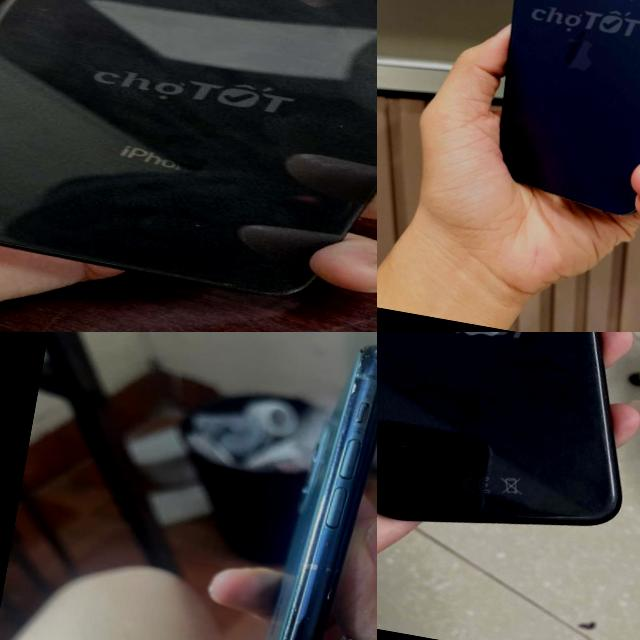scratch: (332, 341, 377, 439), (319, 550, 348, 610), (284, 594, 316, 624)
